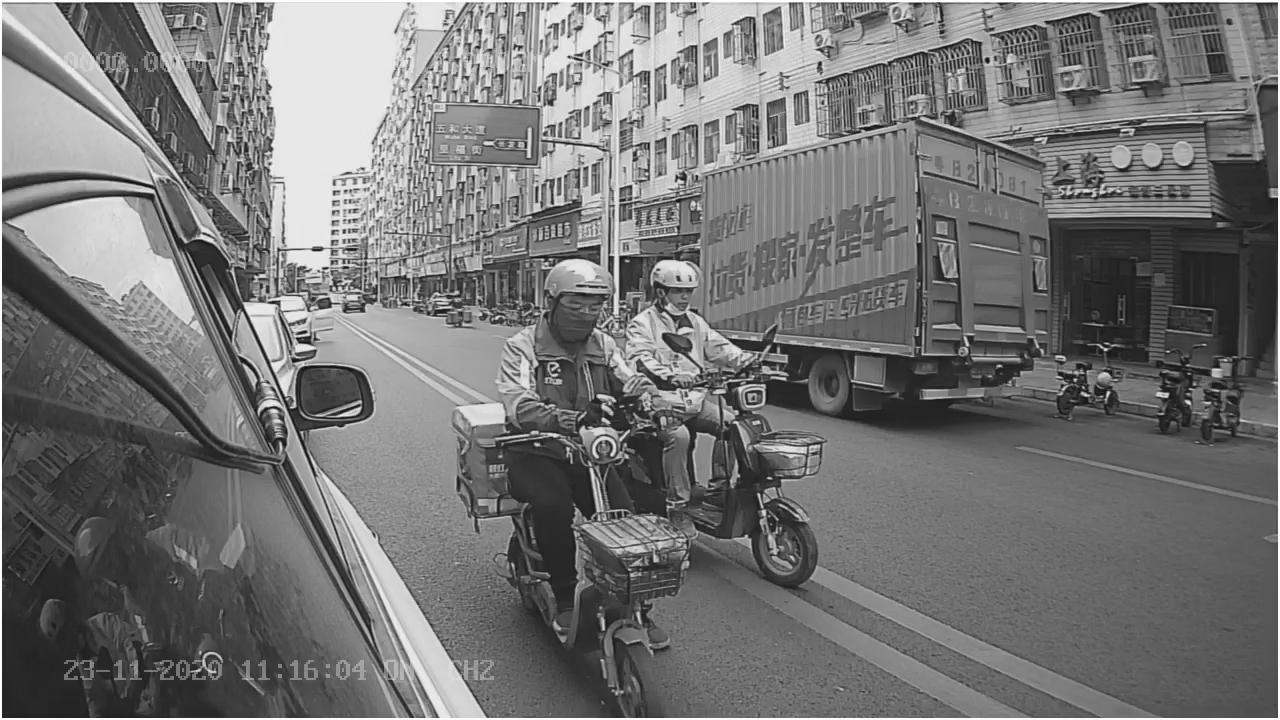person: (497, 257, 654, 415), (623, 257, 762, 396)
